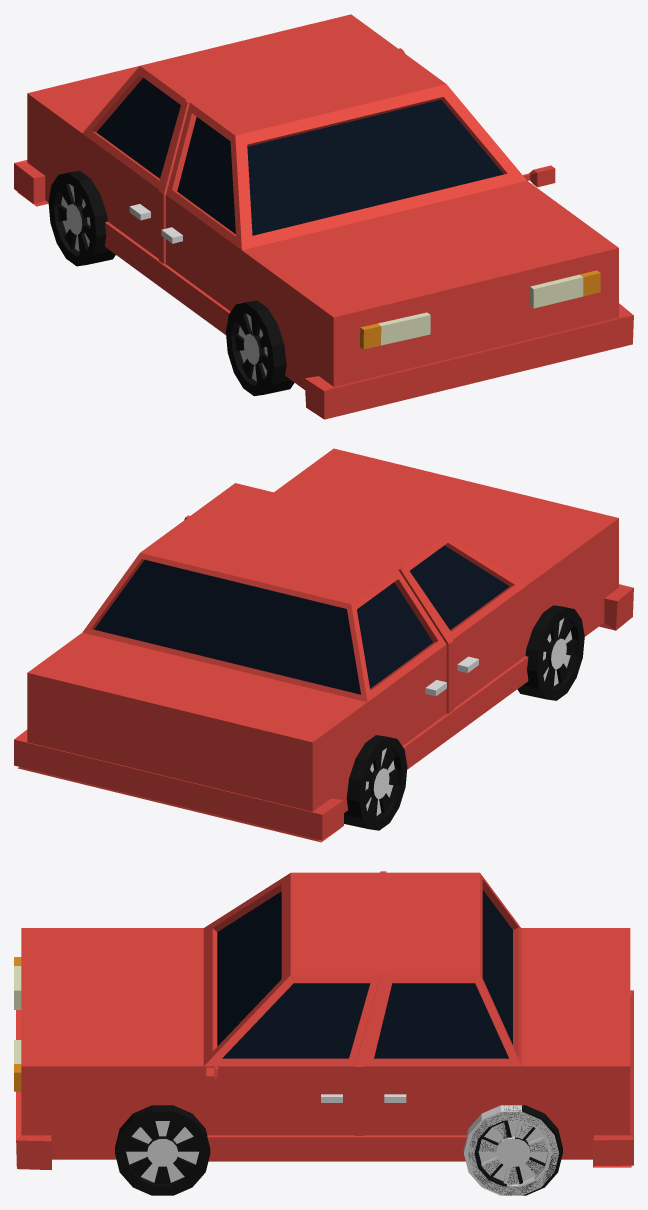
Rendered from car.glb.
The picture shows the model from 3 angles, top to bottom: view 1: azimuth 30°, elevation 25°; view 2: azimuth 150°, elevation 25°; view 3: azimuth 270°, elevation 25°; orthographic projection.
Parts seen in each view (by area): view 1: Cube, Cylinder.005, Cylinder.006, Cube.001, Cube.004; view 2: Cube, Cylinder.006, Cylinder.005; view 3: Cube, Cylinder.001, Cylinder.003, Cylinder.004.
Part boxes in pixels (<box>): Cube: <box>14,14,633,419</box>; Cylinder.005: <box>226,300,294,396</box>; Cylinder.006: <box>48,171,115,266</box>; Cube.001: <box>530,270,600,308</box>; Cube.004: <box>360,312,430,349</box>; Cube: <box>14,448,633,842</box>; Cylinder.006: <box>344,735,407,830</box>; Cylinder.005: <box>517,605,584,700</box>; Cube: <box>16,871,633,1170</box>; Cylinder.001: <box>115,1105,210,1195</box>; Cylinder.003: <box>463,1105,559,1195</box>; Cylinder.004: <box>468,1105,562,1195</box>.
Bounding box in the file's own units: 2.3 × 1.33 × 3.79.
